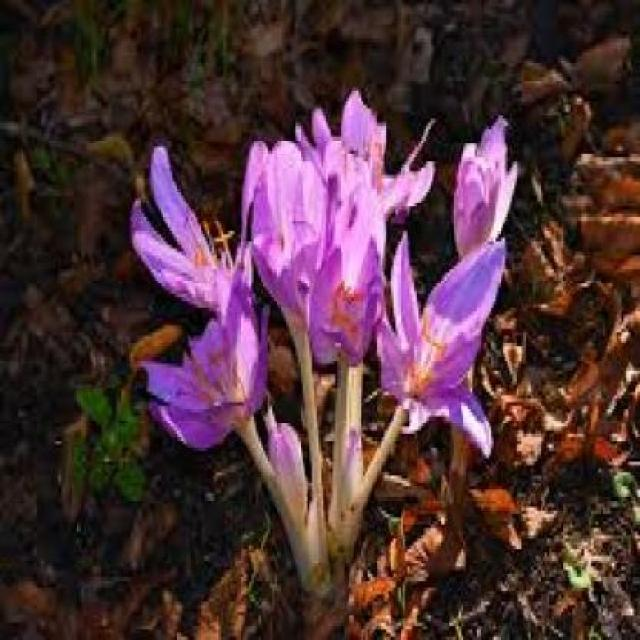saffron open: (378, 235, 505, 454), (144, 272, 264, 448), (454, 116, 518, 257)
